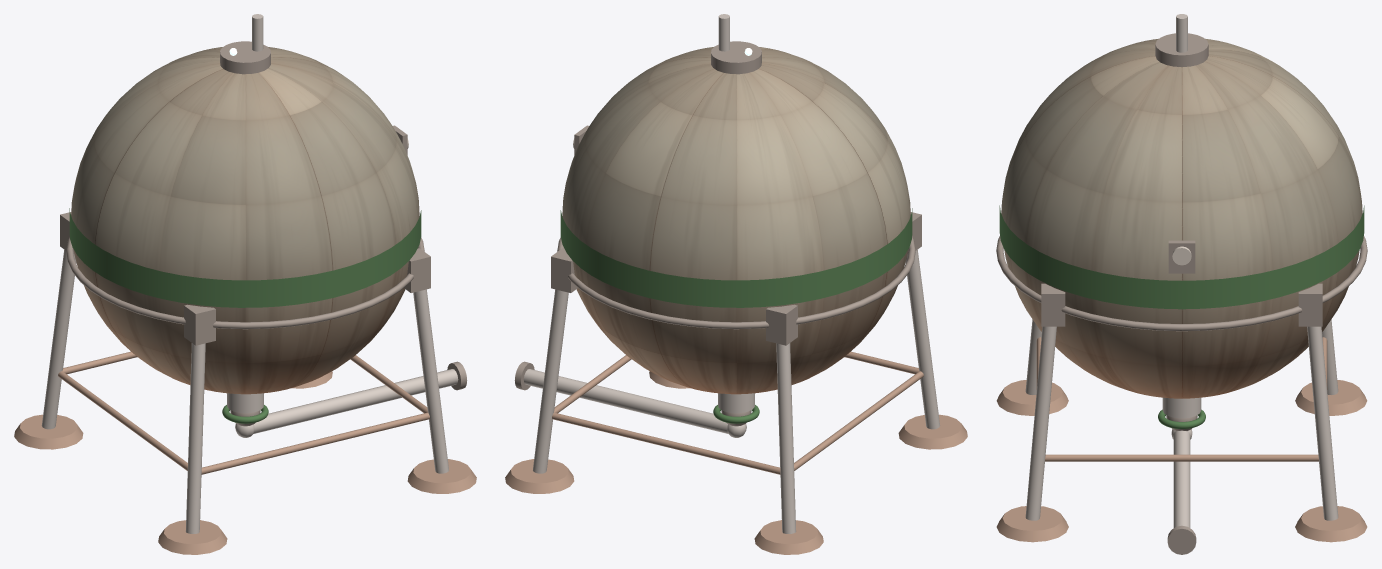
File: E08_sphere_tank_oxygen.glb
3 views of the same model, side by side, from view 1: azimuth 30°, elevation 25°; view 2: azimuth 150°, elevation 25°; view 3: azimuth 270°, elevation 25° (orthographic). The views are drawn at different scales.
Visible parts, largest first — view 1: tank, equator_band, leg (×3), footpad (×3), leg_tie (×3), outlet_pipe, leg_ring, leg_bracket (×2), top_manhole, bottom_outlet; view 2: tank, equator_band, leg (×3), footpad (×3), leg_tie (×3), outlet_pipe, leg_ring, leg_bracket (×2), top_manhole, bottom_outlet; view 3: tank, equator_band, leg (×4), footpad (×4), leg_ring, leg_tie, leg_bracket (×2), outlet_pipe, top_manhole, bottom_outlet, outlet_flange, gauge_box (+1 smaller).
Part boxes in pixels (x1,y1,x2,y2): tank: (71,47,419,394); equator_band: (69,208,421,307); leg (×3): (41,250,448,533); footpad (×3): (14,414,476,554); leg_tie (×3): (58,355,429,474); outlet_pipe: (253,369,458,433); leg_ring: (66,237,424,329); leg_bracket (×2): (184,248,430,345); top_manhole: (220,41,270,74); bottom_outlet: (227,393,263,413); tank: (562,47,910,394); equator_band: (560,208,912,307); leg (×3): (533,250,940,533); footpad (×3): (505,414,967,554); leg_tie (×3): (552,355,923,474); outlet_pipe: (523,369,728,433); leg_ring: (557,237,915,329); leg_bracket (×2): (551,248,797,345); top_manhole: (711,41,761,74); bottom_outlet: (718,393,754,413); tank: (1001,38,1362,398); equator_band: (999,205,1364,309); leg (×4): (1025,319,1338,520); footpad (×4): (996,380,1367,542); leg_ring: (996,236,1367,331); leg_tie: (1045,454,1318,461); leg_bracket (×2): (1041,283,1322,326); outlet_pipe: (1173,430,1190,527); top_manhole: (1155,33,1208,67); bottom_outlet: (1162,397,1201,418); outlet_flange: (1167,525,1196,554); gauge_box: (1168,240,1195,273).
Bounding box in the file's own units: 3.67 × 4.15 × 3.08.
Materials: 7 (1 with a texture image).
